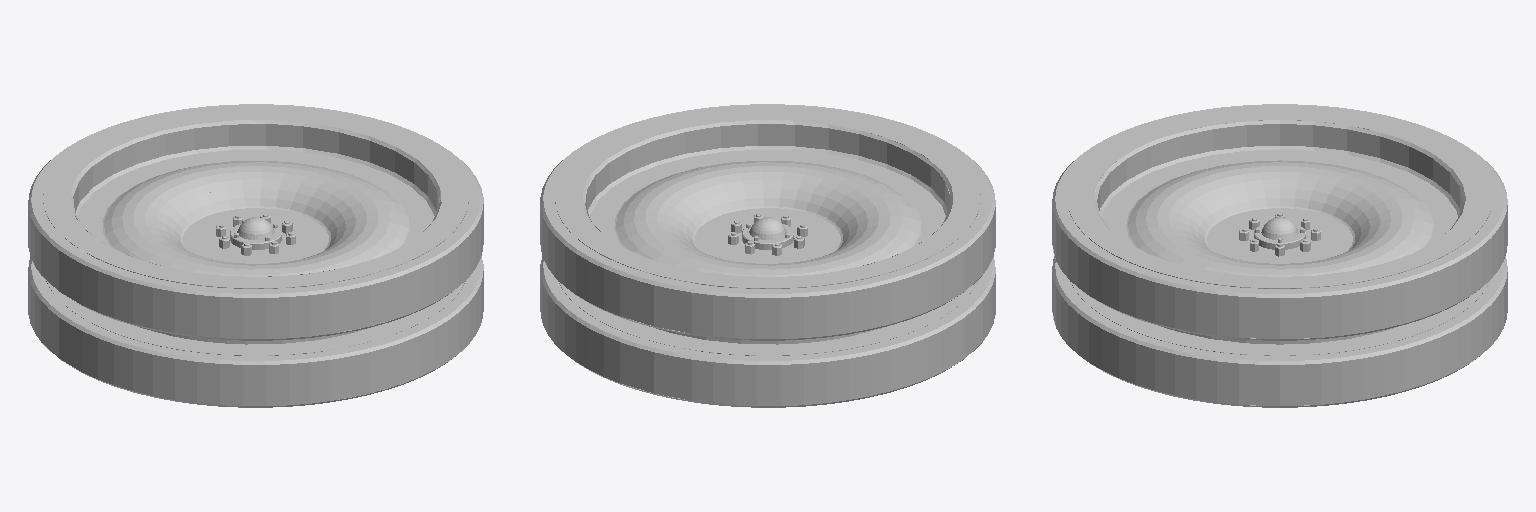
File: Roller_L.obj
3 renders of one model, left to right at view 1: azimuth 30°, elevation 25°; view 2: azimuth 150°, elevation 25°; view 3: azimuth 270°, elevation 25°, orthographic.
Visible parts, largest first — view 1: Object_1 Mesh; view 2: Object_1 Mesh; view 3: Object_1 Mesh.
Part boxes in pixels (bbox=[...]): Object_1 Mesh: bbox=[28, 104, 483, 407]; Object_1 Mesh: bbox=[540, 104, 995, 407]; Object_1 Mesh: bbox=[1052, 104, 1507, 407].
Bounding box in the file's own units: 0.61 × 0.17 × 0.61.